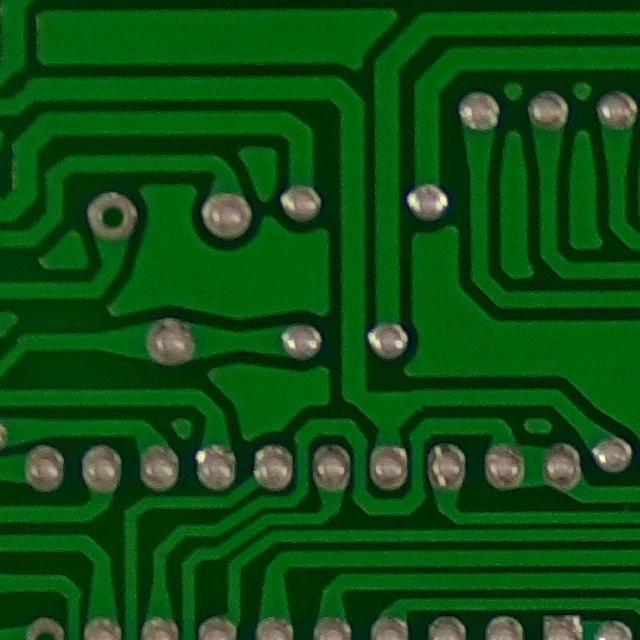missing_hole: (80, 182, 152, 243), (14, 609, 70, 640)
